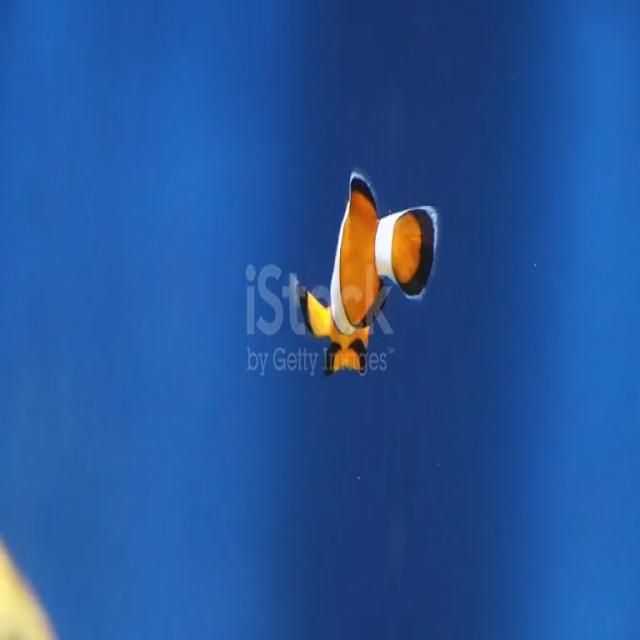fish: (300, 164, 438, 381)
